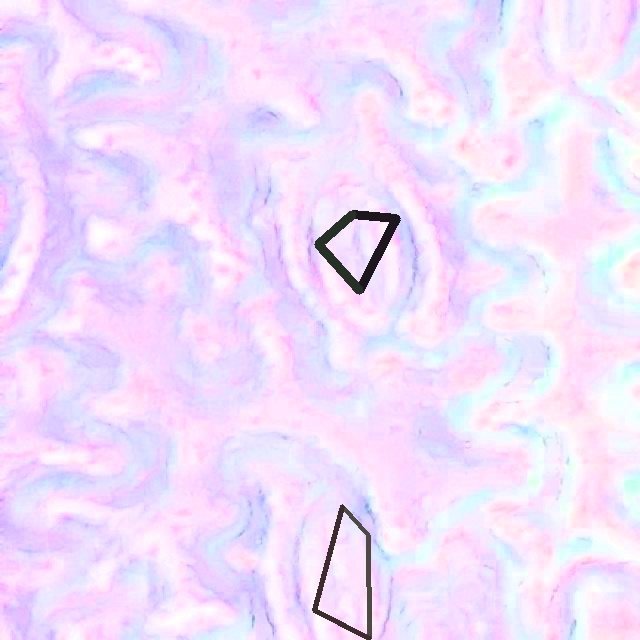close: (312, 505, 370, 640), (315, 210, 400, 293)
